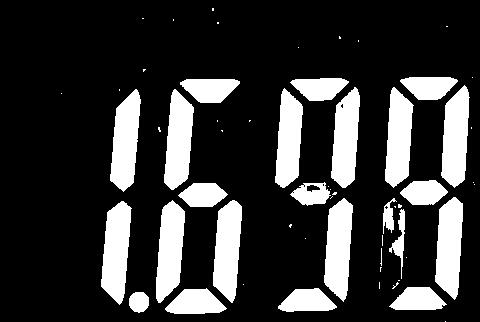1: (97, 84, 143, 306)
6: (155, 76, 247, 314)
9: (272, 76, 363, 315), (382, 75, 471, 313)
dot: (128, 290, 150, 313)
